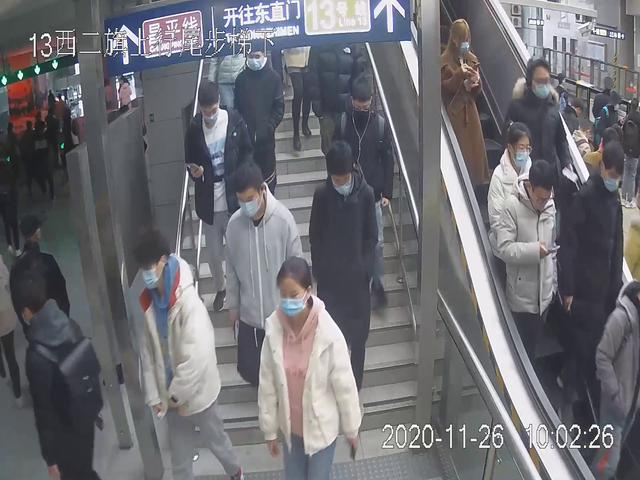person: (124, 224, 244, 480), (256, 256, 365, 480), (222, 158, 315, 417), (306, 138, 381, 425), (10, 269, 108, 480), (556, 140, 627, 430), (183, 79, 261, 315), (487, 158, 559, 400), (323, 73, 393, 319), (434, 16, 492, 219), (232, 43, 286, 242)
